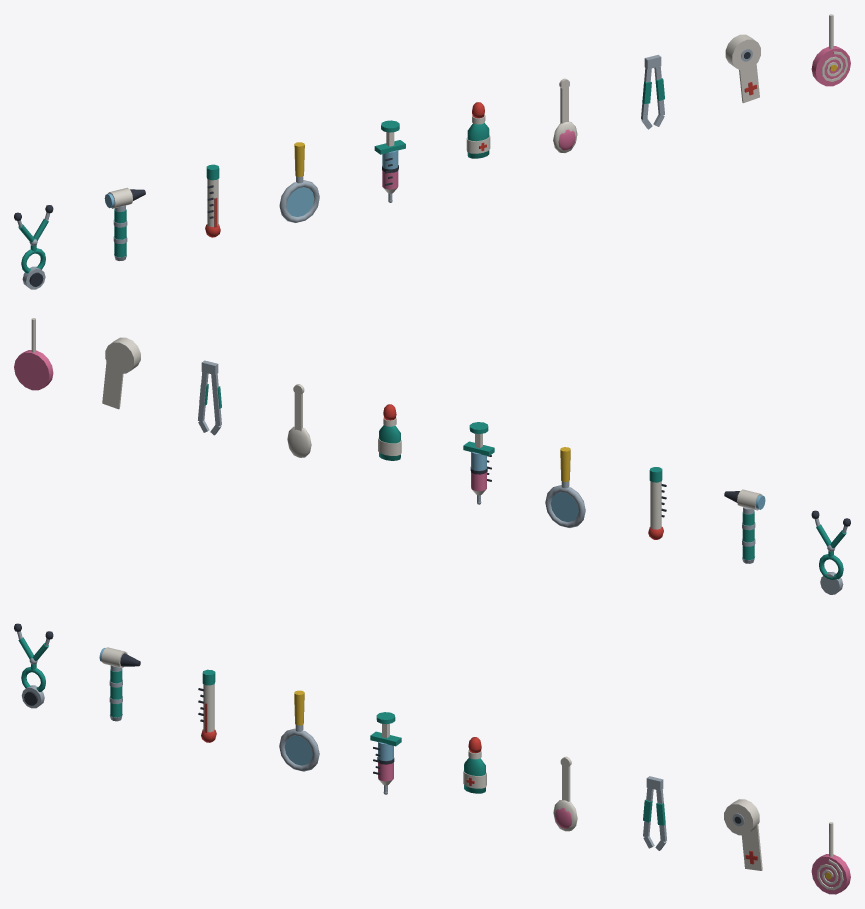
The model's file is vetTools.glb.
The picture shows the model from 3 angles, top to bottom: view 1: azimuth 30°, elevation 25°; view 2: azimuth 150°, elevation 25°; view 3: azimuth 330°, elevation 25°; orthographic projection.
Visible parts, largest first — view 1: lolly_candy, band_roll, mag_ring, mag_lens, band_strip; view 2: lolly_candy, band_roll, mag_ring, band_strip, mag_lens, spoon_bowl, therm_body; view 3: lolly_candy, band_roll, mag_ring, mag_lens, band_strip.
Part boxes in pixels (x1,y1,x2,y2): lolly_candy: (811,46,850,86); band_roll: (725,34,760,70); mag_ring: (279,180,319,222); mag_lens: (286,187,314,216); band_strip: (739,64,759,103); lolly_candy: (14,350,53,390); band_roll: (105,337,140,373); mag_ring: (545,485,585,527); band_strip: (102,361,123,409); mag_lens: (550,492,578,522); spoon_bowl: (287,426,311,457); therm_body: (650,481,661,529); lolly_candy: (811,854,850,894); band_roll: (724,799,759,835); mag_ring: (279,728,319,771); mag_lens: (284,735,312,765); band_strip: (741,824,762,870).
Size of the model in its own units: 4.24 by 0.385 by 0.086.
